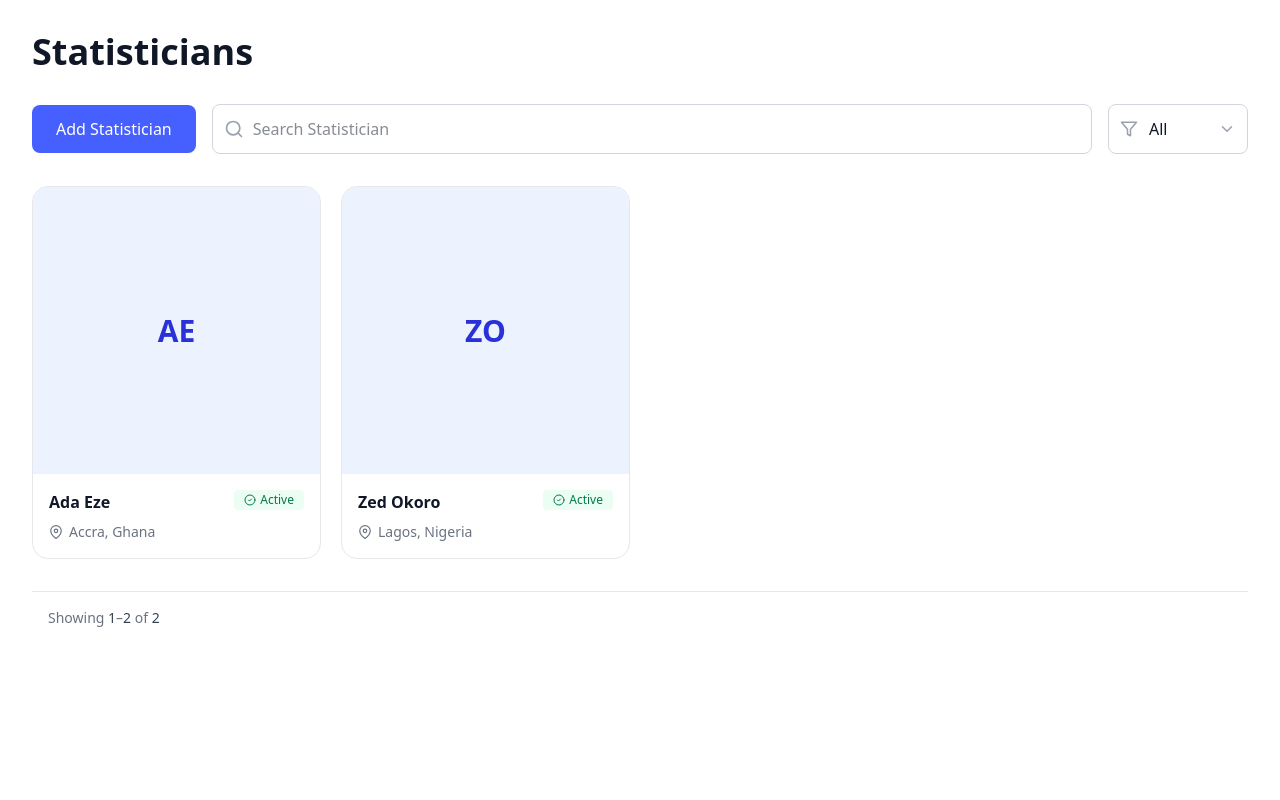
it: Statisticians: form › will not submit an empty create, and focuses the first problem
Click the button "Add Statistician" at (114, 129), box [32,105,196,153]
(page scrolled)
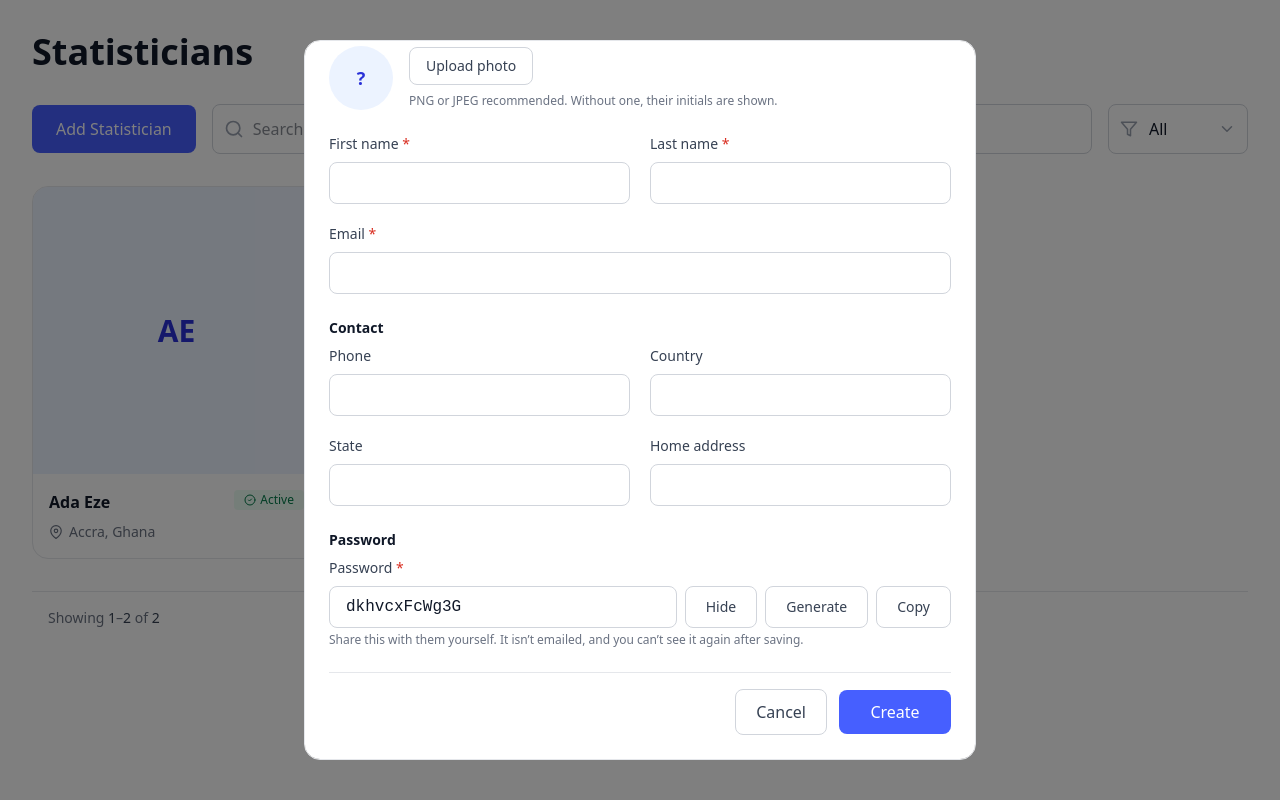
Click the button "Create" at (895, 712), box [839,690,951,734]
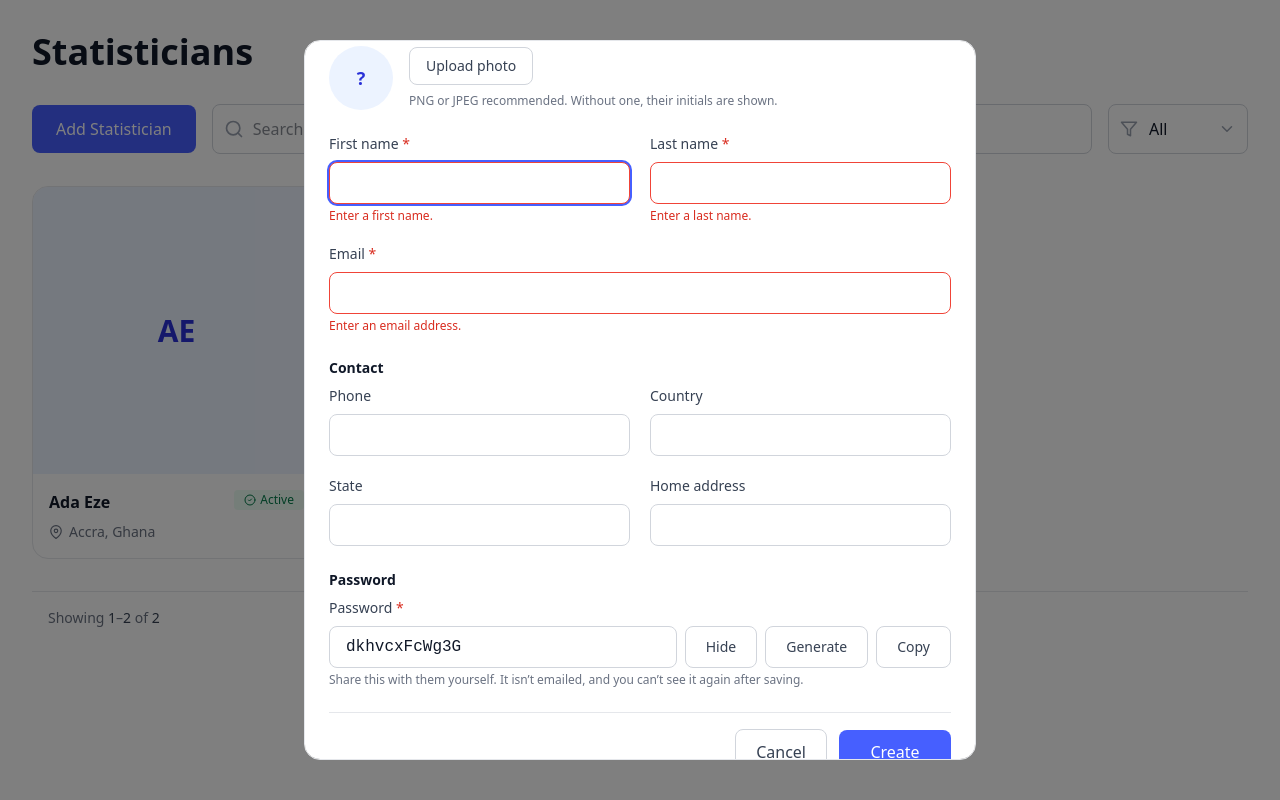
Result: the text "Enter a first name." is shown at [329,207,433,224]
Result: the text "Enter an email address." is shown at [329,317,461,334]
